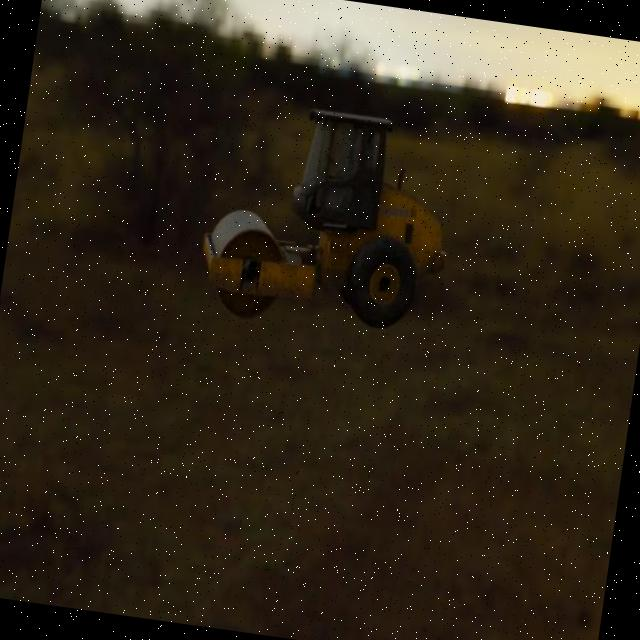Roller: (193, 96, 465, 348)
